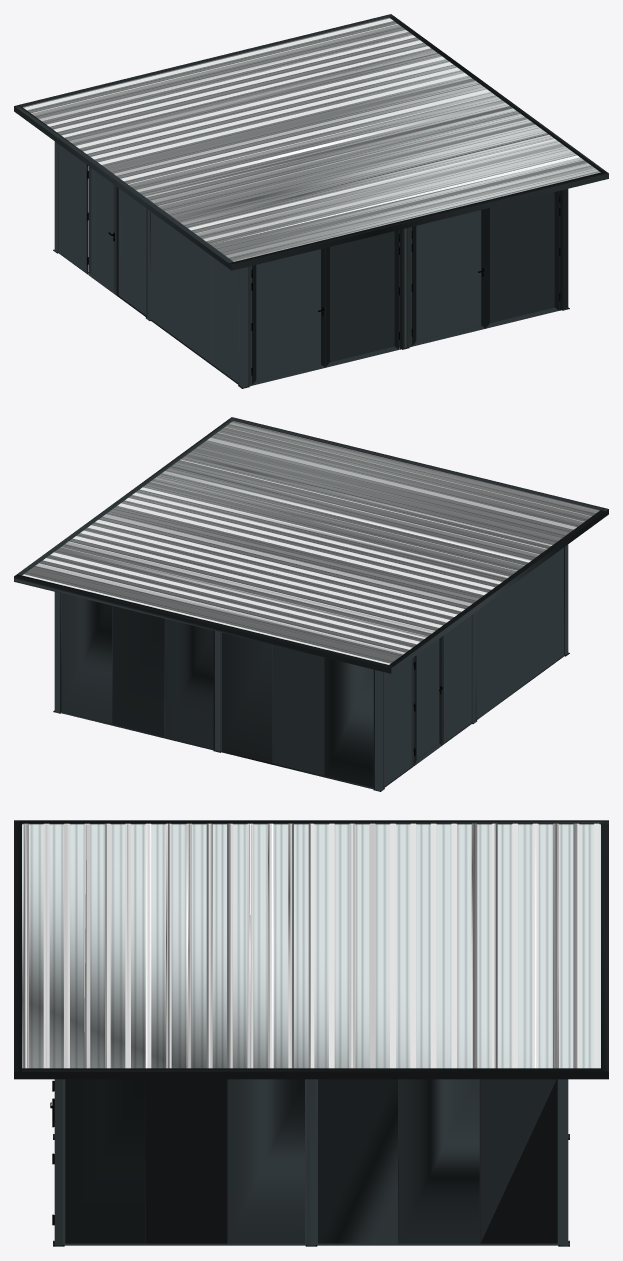
3 renders of one model, top to bottom at view 1: azimuth 30°, elevation 25°; view 2: azimuth 150°, elevation 25°; view 3: azimuth 270°, elevation 25°, orthographic. The views are drawn at different scales.
Parts seen in each view (by area): view 1: priximbattable_net_abris_de_voiture_640018_garage_toit_plat_, folha_4, folha_3, folha_5, folha_2, folha, porta_dupla, porta_dupla_1, porta; view 2: priximbattable_net_abris_de_voiture_640018_garage_toit_plat_, folha, porta; view 3: priximbattable_net_abris_de_voiture_640018_garage_toit_plat_.
Part boxes in pixels (<box>): priximbattable_net_abris_de_voiture_640018_garage_toit_plat_: <box>14,14,608,388</box>; folha_4: <box>485,191,560,328</box>; folha_3: <box>251,248,325,385</box>; folha_5: <box>411,209,485,346</box>; folha_2: <box>325,230,399,367</box>; folha: <box>87,166,116,295</box>; porta_dupla: <box>248,229,402,386</box>; porta_dupla_1: <box>408,190,562,347</box>; porta: <box>86,165,118,296</box>; priximbattable_net_abris_de_voiture_640018_garage_toit_plat_: <box>14,417,608,791</box>; folha: <box>413,637,441,765</box>; porta: <box>411,635,443,767</box>; priximbattable_net_abris_de_voiture_640018_garage_toit_plat_: <box>14,820,608,1246</box>.
Size of the model in its own units: 730 by 259 by 730.
1 material, 1 textured.
